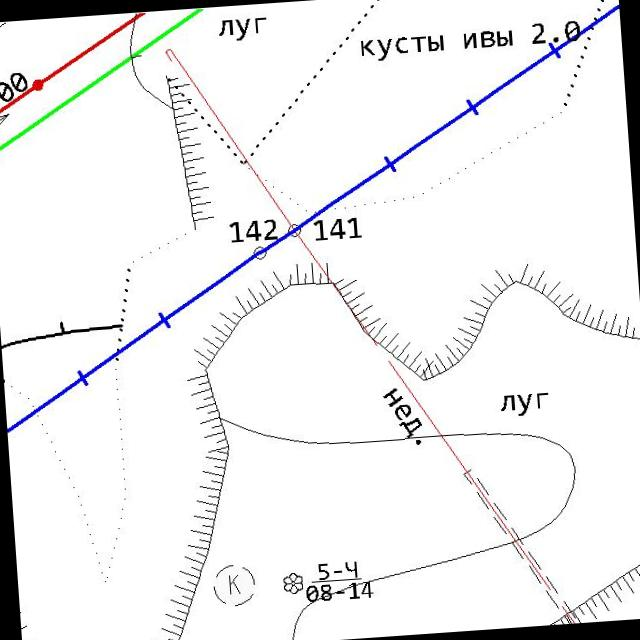bushes: (211, 562, 258, 608), (280, 570, 304, 596)
well: (250, 242, 268, 262), (285, 220, 303, 239)
